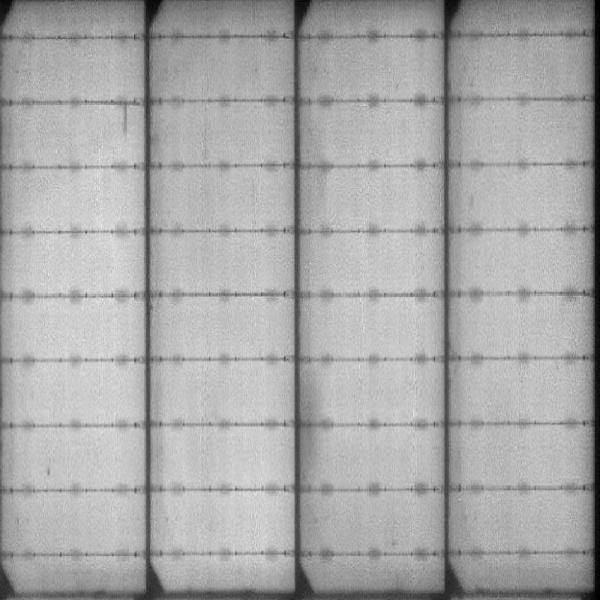scratch: (120, 100, 133, 134)
